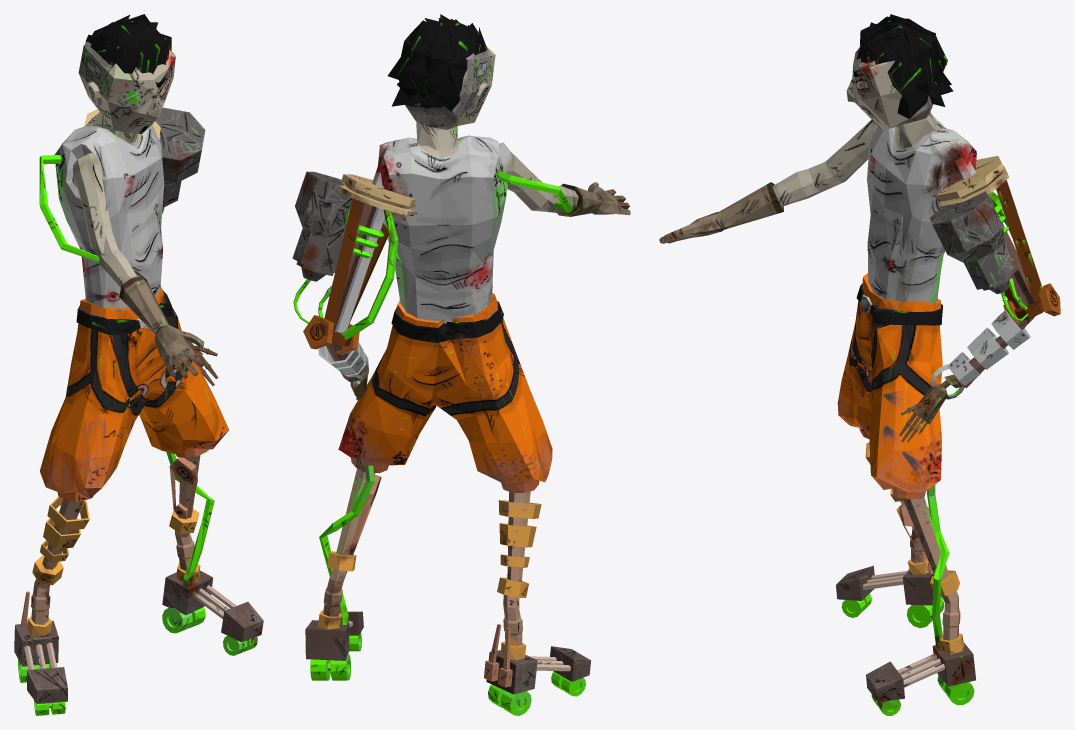
File: CyborgFINALAnimation_000007.obj
3 views of the same model, side by side, from view 1: azimuth 30°, elevation 25°; view 2: azimuth 150°, elevation 25°; view 3: azimuth 270°, elevation 25° (orthographic). The views are drawn at different scales.
Parts seen in each view (by area): view 1: CyborgMesh_Cube.002; view 2: CyborgMesh_Cube.002; view 3: CyborgMesh_Cube.002.
Boxes of the visible parts, bbox=[...] form: CyborgMesh_Cube.002: bbox=[14, 14, 263, 715]; CyborgMesh_Cube.002: bbox=[292, 14, 630, 715]; CyborgMesh_Cube.002: bbox=[659, 14, 1060, 715].
Bounding box in the file's own units: 3.71 × 9.62 × 5.46.
